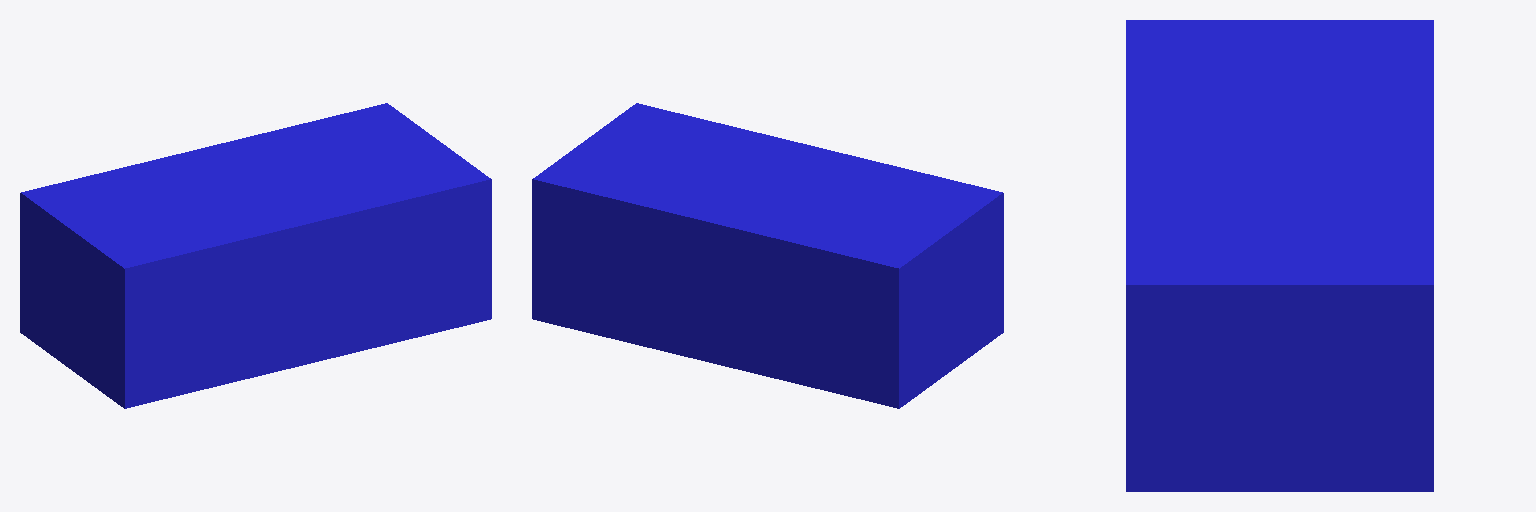
URDF robot description (CinderBlock):
<?xml version="1.0" ?>

<robot name="CinderBlock">
  <material name="Blue">
    <color rgba="0.2 0.2 0.9 1.0"/>
  </material>
  <material name="Green">
    <color rgba="0.2 0.9 0.2 1.0"/>
  </material>
  <material name="Red">
    <color rgba="0.9 0.2 0.2 1.0"/>
  </material>

  <link name="block">
    <inertial>
      <mass value="0"/>
      <inertia ixx="0" ixy="0" ixz="0" iyy="0" iyz="0" izz="0"/>
      <origin xyz="0 0 0"/>
    </inertial>

    <visual>
      <geometry>
        <box size="0.397 0.195 0.145"/>
      </geometry>
      <material name="Blue"/>
    </visual>

    <collision>
      <geometry>
        <box size="0.397 0.195  0.145"/>
      </geometry>
    </collision>
  </link>
</robot>

--- What the picture shows (computed from the rendered views, not written in the file) ---
3 views of the same robot in one strip: view 1: azimuth 30°, elevation 25°; view 2: azimuth 150°, elevation 25°; view 3: azimuth 270°, elevation 25° (orthographic).
Robot: CinderBlock — 1 links, 0 joints (none); root link block; default pose: every joint at zero.
Links seen in each view (by area): view 1: block; view 2: block; view 3: block.
Boxes of the visible links, x1,y1,x2,y2 form: block: (20, 103, 491, 408); block: (532, 103, 1003, 408); block: (1126, 20, 1433, 491).
Bounding box of the posed robot: 0.397 × 0.195 × 0.145 m (x, y, z).
Geometry: primitives only (box / cylinder / sphere), no mesh files.